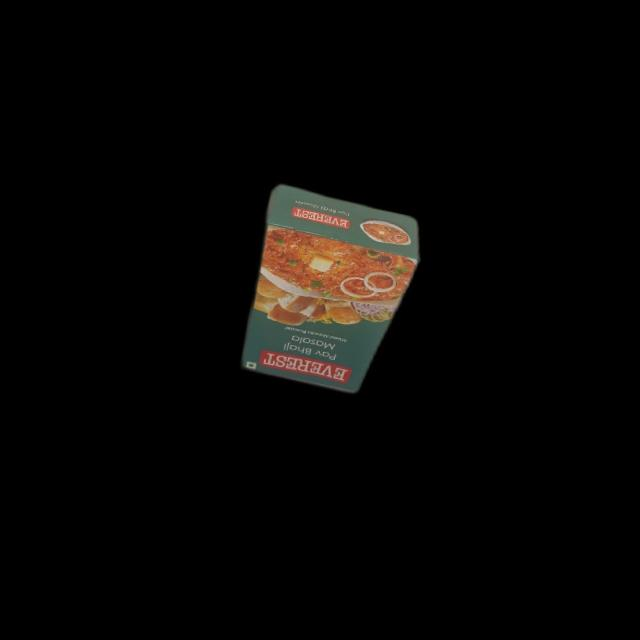Everest Pav Bhaji Masala 100 g: (228, 175, 426, 408)
